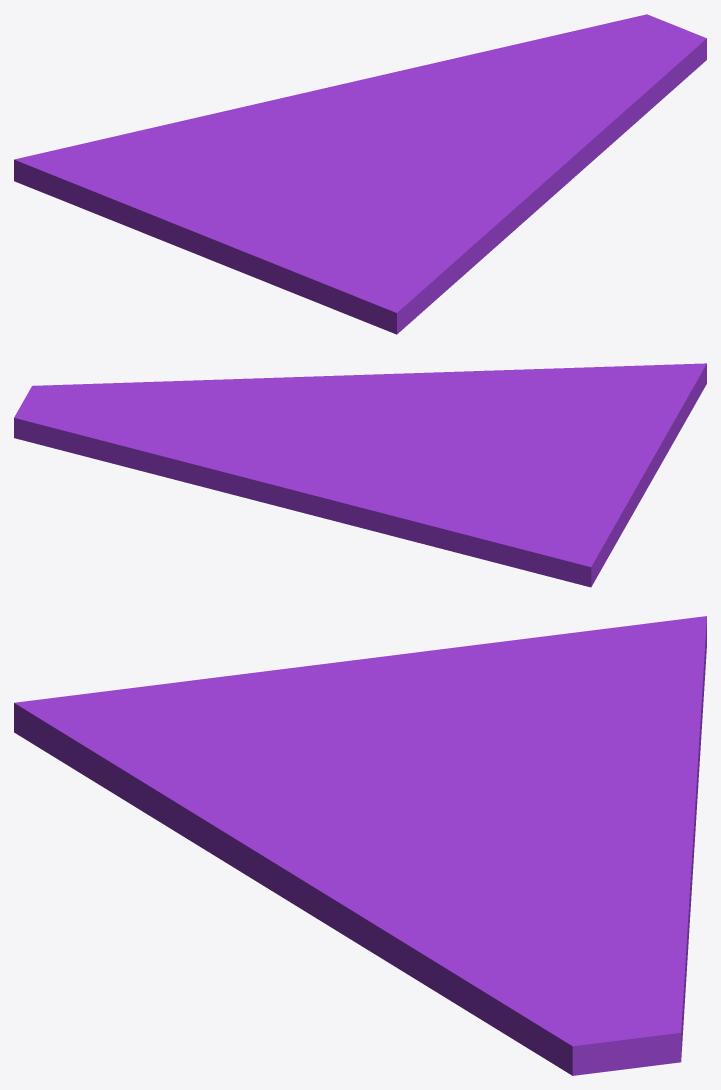
File: StairsStep_21_chunks.fbx
The picture shows the model from 3 angles, top to bottom: view 1: azimuth 30°, elevation 25°; view 2: azimuth 150°, elevation 25°; view 3: azimuth 270°, elevation 25°; orthographic projection. The views are drawn at different scales.
Parts seen in each view (by area): view 1: StairsStep_21_2, StairsStep_21_1, StairsStep_21_3, StairsStep_21_0; view 2: StairsStep_21_1, StairsStep_21_2, StairsStep_21_3, StairsStep_21_0; view 3: StairsStep_21_2, StairsStep_21_1, StairsStep_21_3, StairsStep_21_0.
Part boxes in pixels (x1,y1,x2,y2): StairsStep_21_2: (218,133,591,334); StairsStep_21_1: (14,74,425,263); StairsStep_21_3: (388,14,706,161); StairsStep_21_0: (374,118,459,163); StairsStep_21_1: (245,441,653,587); StairsStep_21_2: (286,363,706,477); StairsStep_21_3: (14,377,330,497); StairsStep_21_0: (318,426,430,444); StairsStep_21_2: (14,662,475,947); StairsStep_21_1: (338,616,706,889); StairsStep_21_3: (362,851,691,1075); StairsStep_21_0: (448,793,539,857).
Bounding box in the file's own units: 559 × 17.94 × 380.
